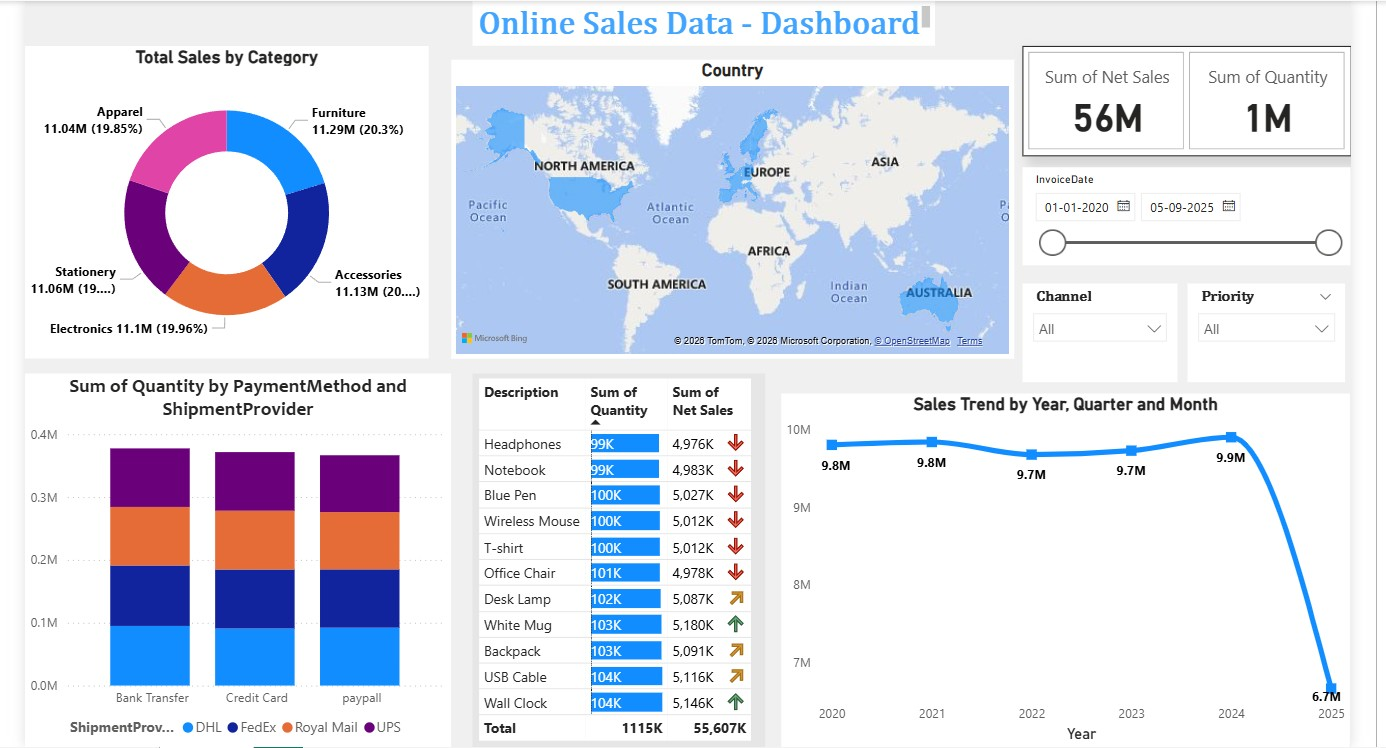

What the dashboard file says about the page in this screenshot:
{"tool":"powerbi","page":{"name":"Page 1","canvas":[1280,720],"ordinal":0},"visuals":[{"type":"donutChart","title":"Total Sales by Category","fields":{"Y":["Sum(online_sales_dataset.Net Sales)"],"Category":["online_sales_dataset.Category"]},"box":[0,43.4,389.7,301.6],"z":0},{"type":"lineChart","title":"Sales Trend by Year, Quarter and Month","fields":{"Category":["online_sales_dataset.InvoiceDate.Variation.Date Hierarchy.Year","online_sales_dataset.InvoiceDate.Variation.Date Hierarchy.Quarter","online_sales_dataset.InvoiceDate.Variation.Date Hierarchy.Month","online_sales_dataset.InvoiceDate.Variation.Date Hierarchy.Day"],"Y":["Sum(online_sales_dataset.Net Sales)"]},"box":[729.9,378.8,548.9,341.4],"z":1000},{"type":"tableEx","fields":{"Values":["online_sales_dataset.Description","Sum(online_sales_dataset.Quantity)","Sum(online_sales_dataset.Net Sales)"]},"box":[431.9,359.5,282.3,360.7],"z":2000},{"type":"columnChart","fields":{"Category":["online_sales_dataset.PaymentMethod"],"Y":["Sum(online_sales_dataset.Quantity)"],"Series":["online_sales_dataset.ShipmentProvider"]},"box":[0,359.5,411.4,360.7],"z":3000},{"type":"cardVisual","fields":{"Data":["Sum(online_sales_dataset.Net Sales)","Sum(online_sales_dataset.Quantity)"]},"box":[962.7,43.4,317.3,106.2],"z":4000},{"type":"slicer","fields":{"Values":["online_sales_dataset.InvoiceDate"]},"box":[962.7,160.5,316.1,94.1],"z":5000},{"type":"filledMap","fields":{"Category":["online_sales_dataset.Country"]},"box":[411.4,56.7,542.9,288.3],"z":6000},{"type":"textbox","box":[431.9,0,446.4,43.4],"z":7000},{"type":"slicer","fields":{"Values":["online_sales_dataset.SalesChannel"]},"box":[962.7,272.7,149.6,95.3],"z":7001},{"type":"slicer","fields":{"Values":["online_sales_dataset.OrderPriority"]},"box":[1122,272.7,152,95.3],"z":7002}]}

Visuals, with their boxes on the page's 1280x720 design canvas (x1, y1, x2, y2). These are canvas units, not pixel positions in the 1386x748 screenshot, which may show the page scaled, cropped or inside an application window:
"Total Sales by Category" donutChart: bbox=[0, 43, 390, 345]
"Sales Trend by Year, Quarter and Month" lineChart: bbox=[730, 379, 1279, 720]
tableEx - online_sales_dataset.Description x Sum(online_sales_dataset.Quantity): bbox=[432, 360, 714, 720]
columnChart - online_sales_dataset.PaymentMethod x Sum(online_sales_dataset.Quantity): bbox=[0, 360, 411, 720]
cardVisual - Sum(online_sales_dataset.Net Sales) x Sum(online_sales_dataset.Quantity): bbox=[963, 43, 1280, 150]
slicer - online_sales_dataset.InvoiceDate: bbox=[963, 160, 1279, 255]
filledMap - online_sales_dataset.Country: bbox=[411, 57, 954, 345]
textbox: bbox=[432, 0, 878, 43]
slicer - online_sales_dataset.SalesChannel: bbox=[963, 273, 1112, 368]
slicer - online_sales_dataset.OrderPriority: bbox=[1122, 273, 1274, 368]
